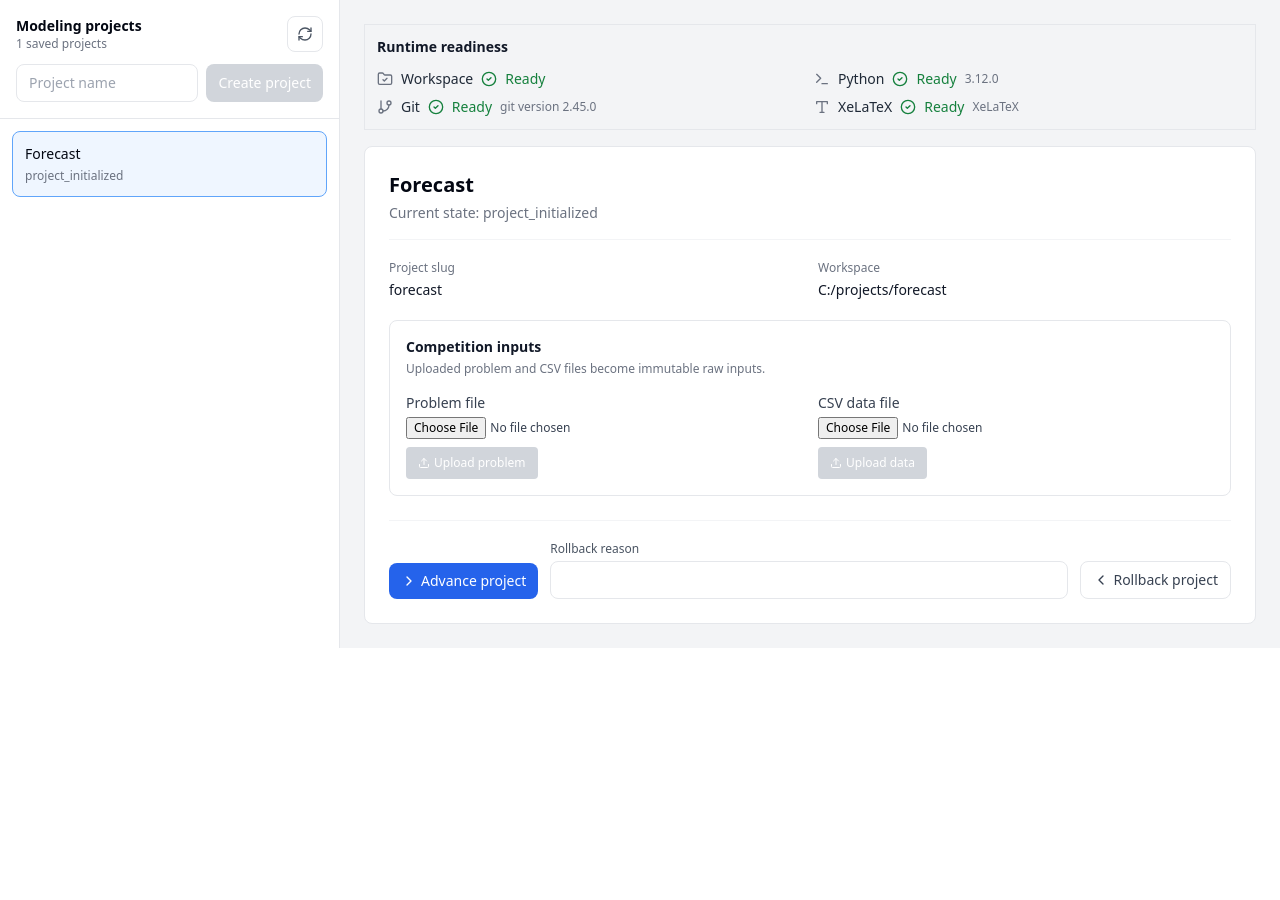
Test: ModelingProjectsView › loads projects, selects one, and creates a project
The width and height of the screenshot is (1280, 900).
Check: the heading "Forecast" is shown, box [389,171,474,198]
In the field labelled "Project name": {"x": 107, "y": 83} [16,64,198,102], type "Churn"
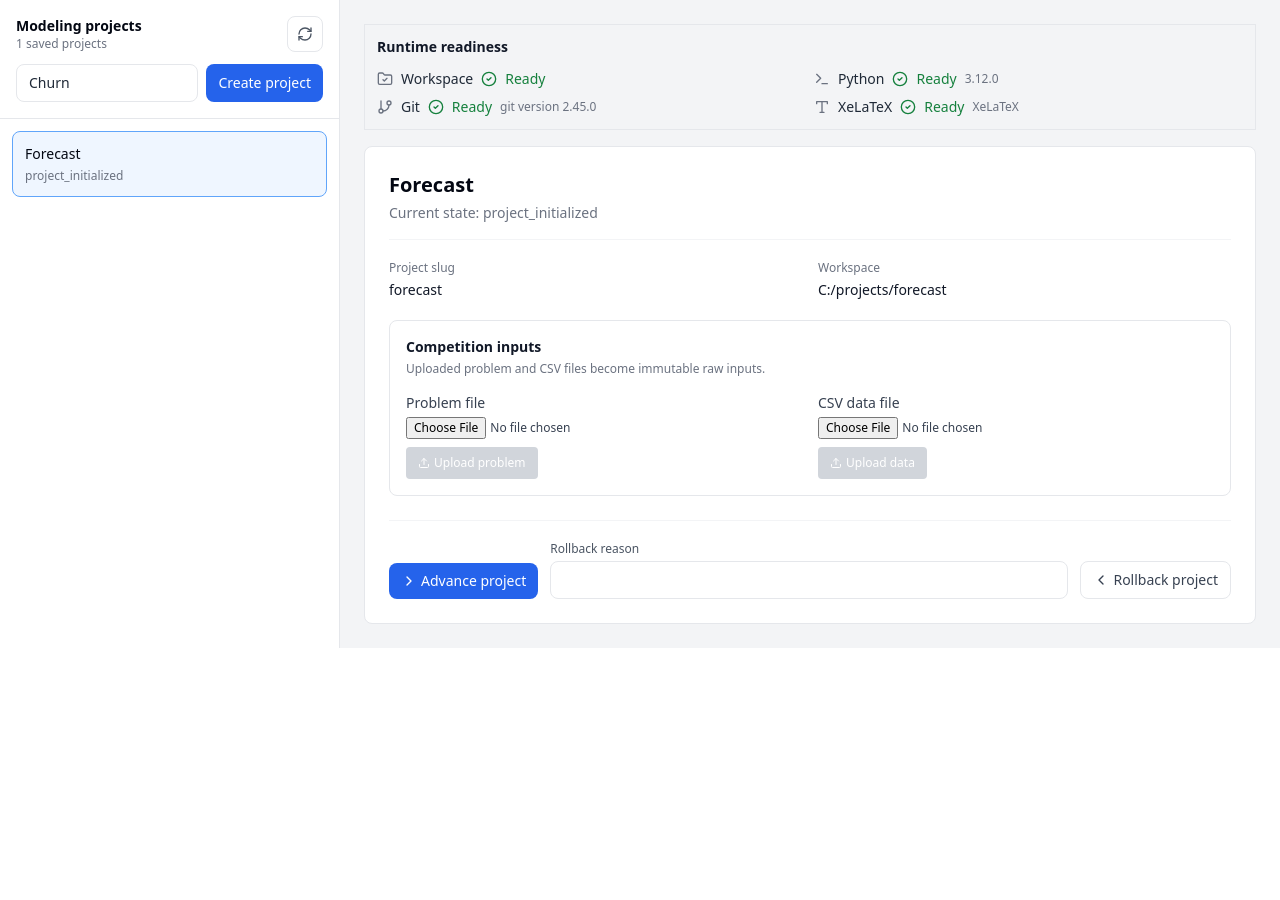
Click the button "Create project": {"x": 265, "y": 83} [206,64,323,102]
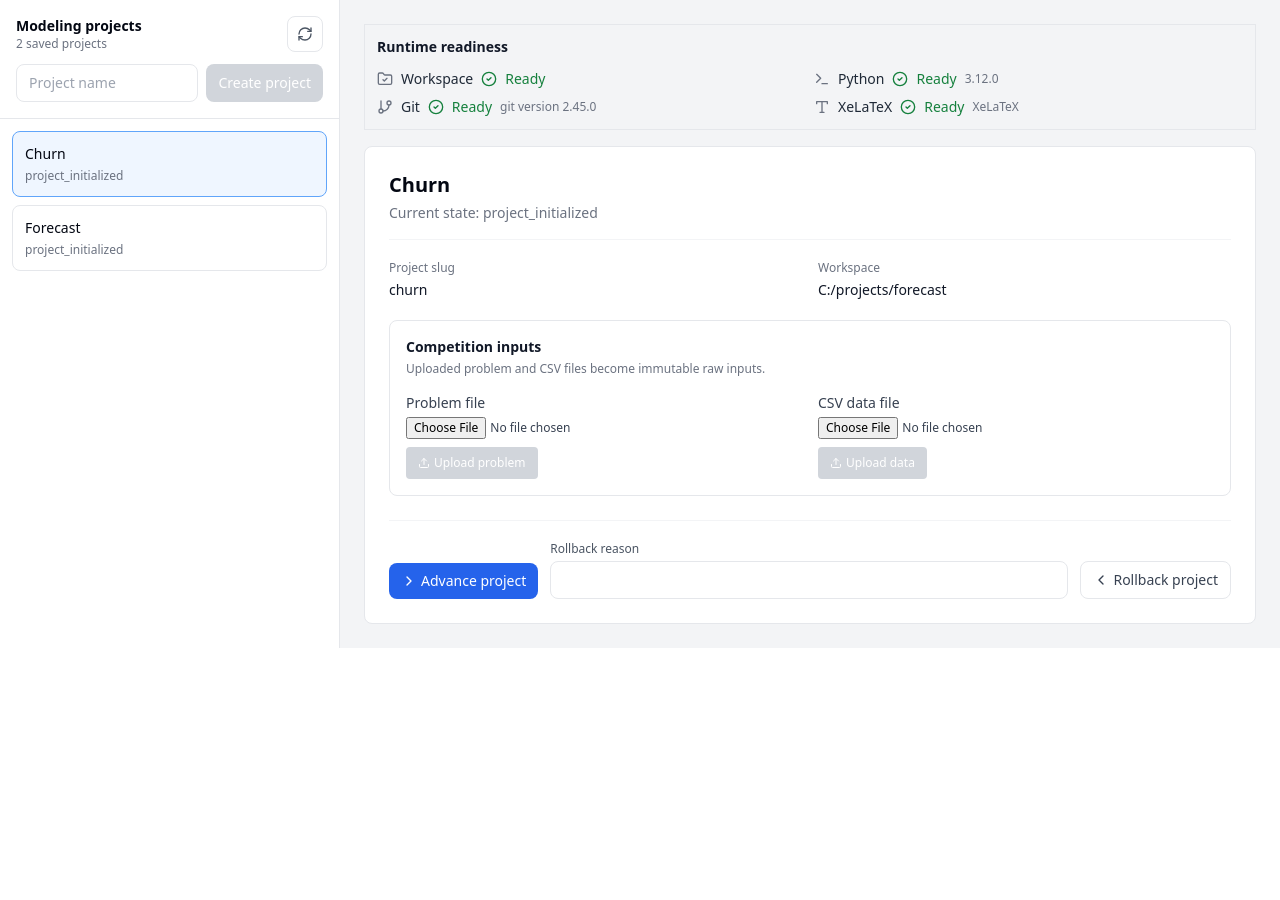
Check: the heading "Churn" is shown, box [389,171,450,198]
